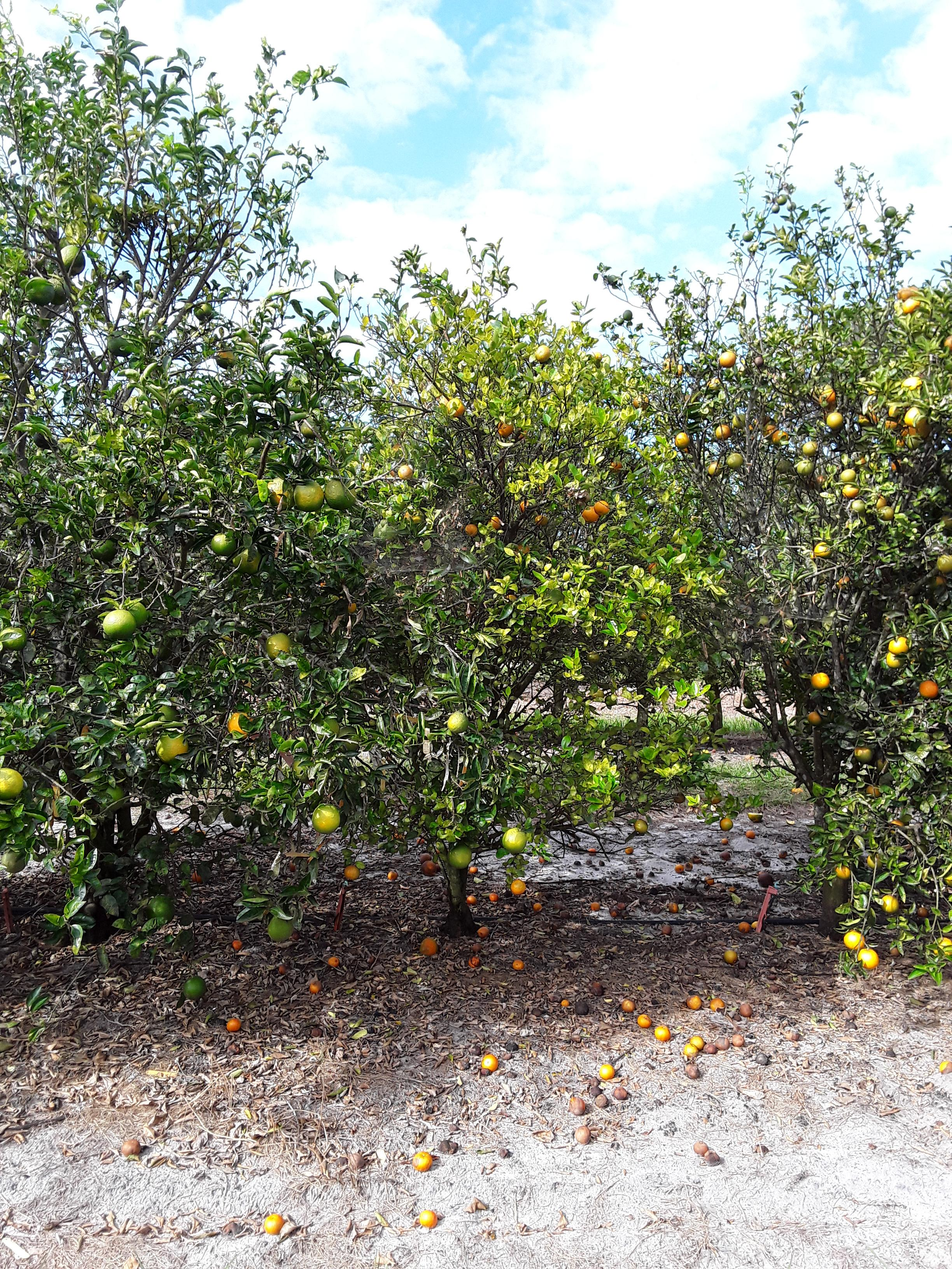fruit_on_ground: (264, 473, 301, 517), (101, 608, 138, 645), (232, 539, 265, 578), (104, 325, 138, 362), (265, 912, 302, 944), (56, 243, 90, 277), (444, 839, 480, 871), (19, 277, 58, 306), (292, 479, 326, 512), (312, 802, 344, 837), (0, 623, 32, 657), (143, 893, 178, 924), (46, 273, 77, 308), (0, 771, 30, 807), (324, 481, 359, 511), (122, 598, 154, 629), (289, 753, 318, 787), (91, 534, 117, 568), (158, 734, 184, 767), (372, 516, 402, 544), (500, 825, 528, 854), (267, 634, 292, 665), (340, 724, 365, 755), (210, 530, 238, 557), (314, 715, 341, 742), (107, 785, 131, 815), (190, 300, 221, 323), (223, 708, 247, 737), (887, 634, 916, 656), (403, 507, 429, 531), (156, 703, 182, 727), (216, 345, 240, 371), (31, 432, 59, 454), (791, 457, 817, 479), (449, 710, 471, 736), (931, 936, 952, 963), (3, 847, 25, 872), (884, 649, 911, 669), (899, 296, 925, 316), (246, 432, 268, 454), (444, 399, 467, 420), (918, 677, 939, 700), (897, 376, 925, 393), (896, 284, 921, 302), (635, 603, 656, 624), (905, 409, 928, 428), (824, 411, 847, 430), (812, 669, 831, 692), (298, 420, 322, 438), (726, 449, 744, 473), (341, 594, 361, 615), (818, 385, 837, 407), (883, 891, 902, 913), (845, 932, 864, 954), (859, 949, 878, 971), (673, 430, 691, 453), (495, 417, 515, 437), (812, 541, 832, 561), (499, 589, 520, 608), (719, 350, 738, 371), (753, 613, 775, 631), (854, 745, 872, 767), (942, 330, 952, 369), (533, 343, 552, 363), (839, 466, 860, 484), (803, 441, 825, 458), (749, 353, 771, 370), (713, 420, 731, 440), (397, 462, 415, 482), (875, 753, 893, 773), (343, 861, 361, 881), (729, 412, 750, 429), (874, 503, 895, 520), (935, 554, 952, 575), (761, 421, 780, 439), (583, 505, 601, 524), (906, 434, 926, 451), (841, 483, 861, 500), (594, 497, 611, 517), (935, 512, 952, 532), (864, 852, 884, 869), (600, 693, 621, 709), (584, 651, 606, 666), (633, 393, 651, 411), (718, 815, 735, 833), (630, 820, 651, 834), (772, 430, 789, 447), (865, 783, 882, 800), (834, 864, 851, 881), (706, 374, 723, 391), (807, 708, 822, 727), (710, 458, 723, 479), (765, 591, 782, 607), (486, 516, 504, 531), (463, 522, 478, 540), (607, 460, 626, 474), (884, 414, 899, 431), (647, 559, 661, 577), (890, 457, 906, 472), (534, 512, 550, 527), (606, 274, 621, 290), (850, 498, 867, 512), (707, 791, 724, 805), (517, 540, 532, 555), (742, 228, 757, 243), (592, 349, 608, 363), (675, 360, 688, 377), (890, 815, 903, 831), (884, 204, 898, 218), (672, 790, 687, 803), (768, 201, 782, 214), (519, 499, 532, 511), (787, 199, 799, 212), (663, 357, 673, 372), (623, 310, 635, 322), (777, 194, 788, 206), (615, 317, 625, 328)
fruit_on_tree: (181, 975, 214, 1003), (264, 1209, 289, 1239), (345, 1148, 368, 1176), (410, 1150, 434, 1175), (121, 1133, 144, 1159), (418, 1208, 440, 1235), (481, 1050, 503, 1074), (306, 1022, 332, 1042), (779, 1023, 805, 1043), (701, 1147, 723, 1169), (418, 937, 440, 958), (572, 1125, 592, 1147), (568, 1095, 588, 1116), (223, 1013, 242, 1035), (598, 1060, 617, 1082), (936, 1057, 952, 1082), (681, 1062, 702, 1081), (421, 860, 443, 877), (509, 878, 528, 897), (683, 1041, 702, 1060), (888, 938, 905, 958), (588, 980, 608, 997), (637, 1012, 654, 1032), (716, 1031, 732, 1052), (653, 1024, 670, 1043), (708, 997, 728, 1013), (754, 1052, 774, 1068), (730, 1031, 747, 1049), (746, 808, 765, 824), (687, 995, 703, 1014), (392, 829, 408, 847), (190, 868, 208, 884), (693, 1140, 711, 1156), (573, 999, 588, 1018), (286, 859, 306, 873), (466, 954, 482, 971), (276, 961, 292, 978), (306, 980, 322, 997), (621, 998, 637, 1014), (737, 1001, 752, 1018), (594, 1095, 611, 1110), (511, 958, 526, 974), (498, 1145, 512, 1162), (691, 1033, 704, 1051), (440, 1140, 459, 1152), (684, 862, 700, 876), (756, 873, 773, 886), (723, 950, 737, 965), (614, 1085, 628, 1100), (557, 910, 576, 921), (470, 941, 486, 954), (506, 1040, 522, 1053), (387, 869, 400, 884), (607, 905, 620, 920), (659, 923, 674, 936), (231, 936, 244, 951), (844, 1021, 860, 1033), (585, 846, 599, 859), (736, 957, 750, 970), (716, 850, 731, 862), (465, 892, 477, 907), (552, 898, 567, 910), (417, 852, 433, 863), (476, 926, 492, 937), (704, 874, 717, 887), (916, 905, 929, 918), (559, 996, 572, 1009), (427, 860, 441, 872), (668, 900, 680, 914), (328, 955, 340, 969), (704, 1043, 718, 1055), (632, 870, 647, 881), (590, 901, 605, 912), (615, 901, 630, 912), (590, 1087, 605, 1098), (645, 867, 658, 879), (775, 848, 789, 859), (622, 846, 637, 856), (536, 855, 549, 866), (745, 830, 757, 841), (488, 891, 499, 903), (750, 920, 761, 931), (596, 858, 608, 868), (532, 902, 544, 912), (414, 836, 428, 844), (572, 859, 584, 868), (738, 919, 746, 932), (718, 836, 728, 846), (470, 866, 481, 875), (676, 863, 685, 873)
